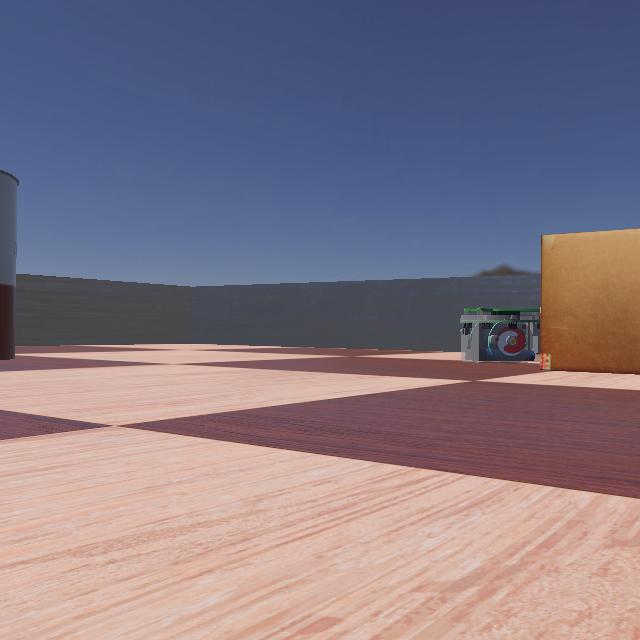cardboard-box: (509, 222, 639, 381)
paint-bucket: (0, 144, 52, 368), (0, 144, 52, 368)
